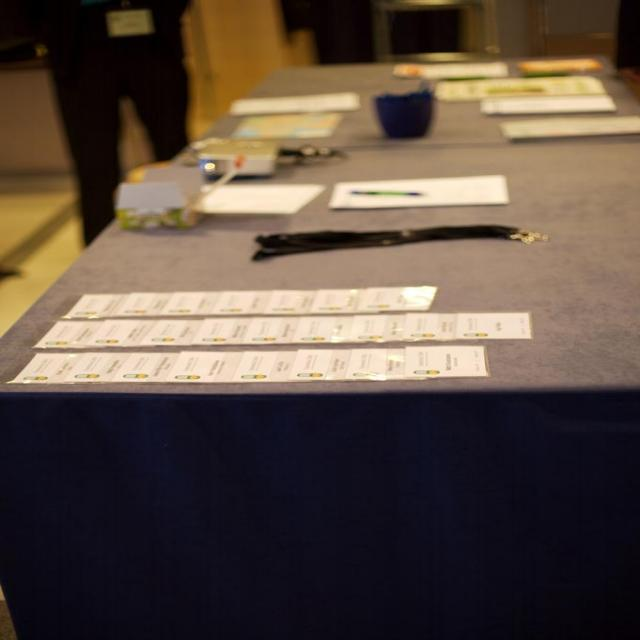Table: (0, 63, 639, 640)
